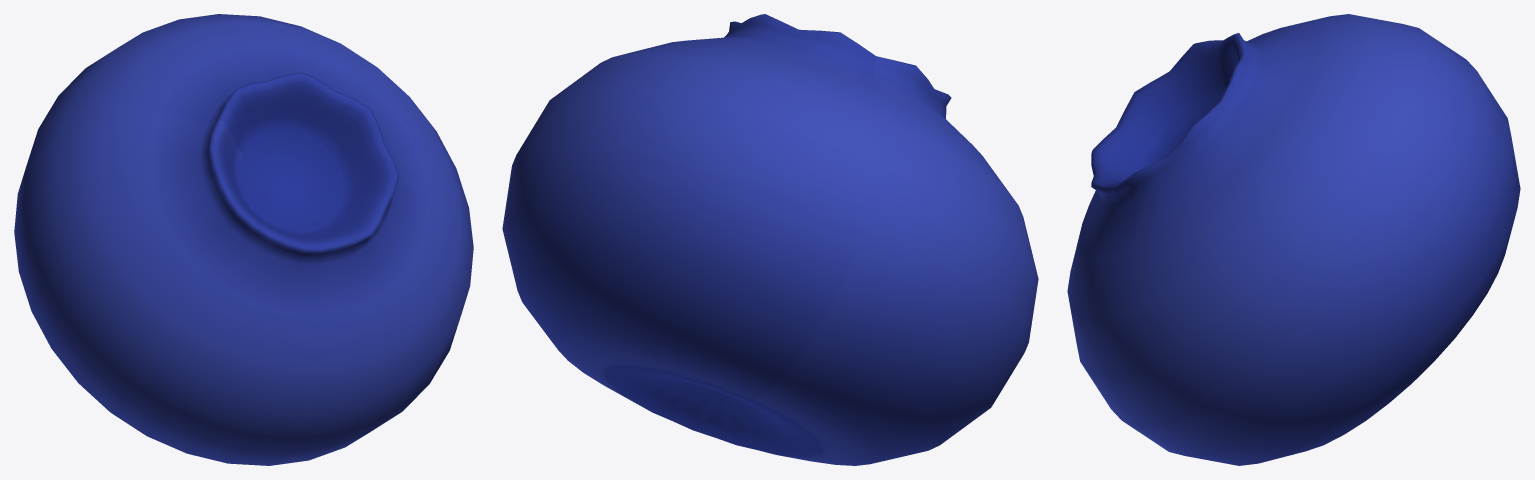
Rendered from BlueBerry.gltf.
3 renders of one model, left to right at view 1: azimuth 30°, elevation 25°; view 2: azimuth 150°, elevation 25°; view 3: azimuth 270°, elevation 25°, orthographic. The views are drawn at different scales.
Visible parts, largest first — view 1: BlueBerry; view 2: BlueBerry; view 3: BlueBerry.
Boxes of the visible parts, x1,y1,x2,y2 form: BlueBerry: (14,14,473,465); BlueBerry: (502,14,1038,465); BlueBerry: (1067,14,1520,465).
Bounding box in the file's own units: 0.8824 × 0.7718 × 0.798.
1 material, 1 textured.
